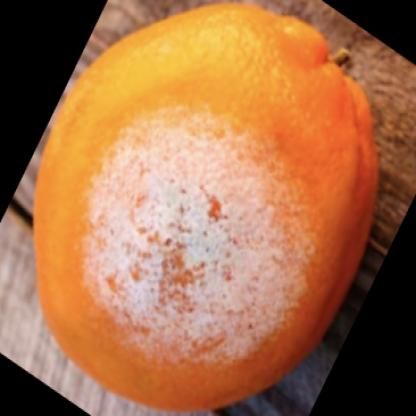rotten: (35, 2, 378, 414)
